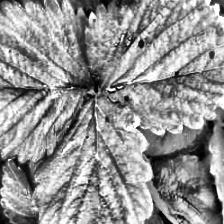Leaf Spot: (83, 0, 224, 137), (29, 92, 154, 224), (0, 0, 96, 165)
